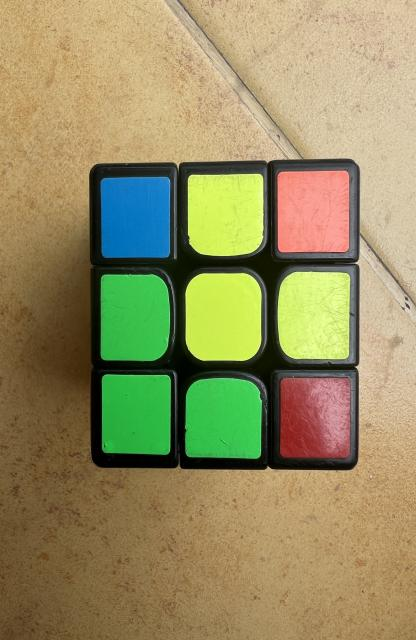Blue: (101, 178, 170, 258)
Green: (185, 378, 262, 459), (101, 275, 170, 361), (102, 374, 171, 455)
Orange: (277, 170, 349, 252)
Red: (280, 378, 351, 459)
Yellow: (185, 272, 262, 361), (277, 271, 350, 360), (187, 174, 263, 256)
